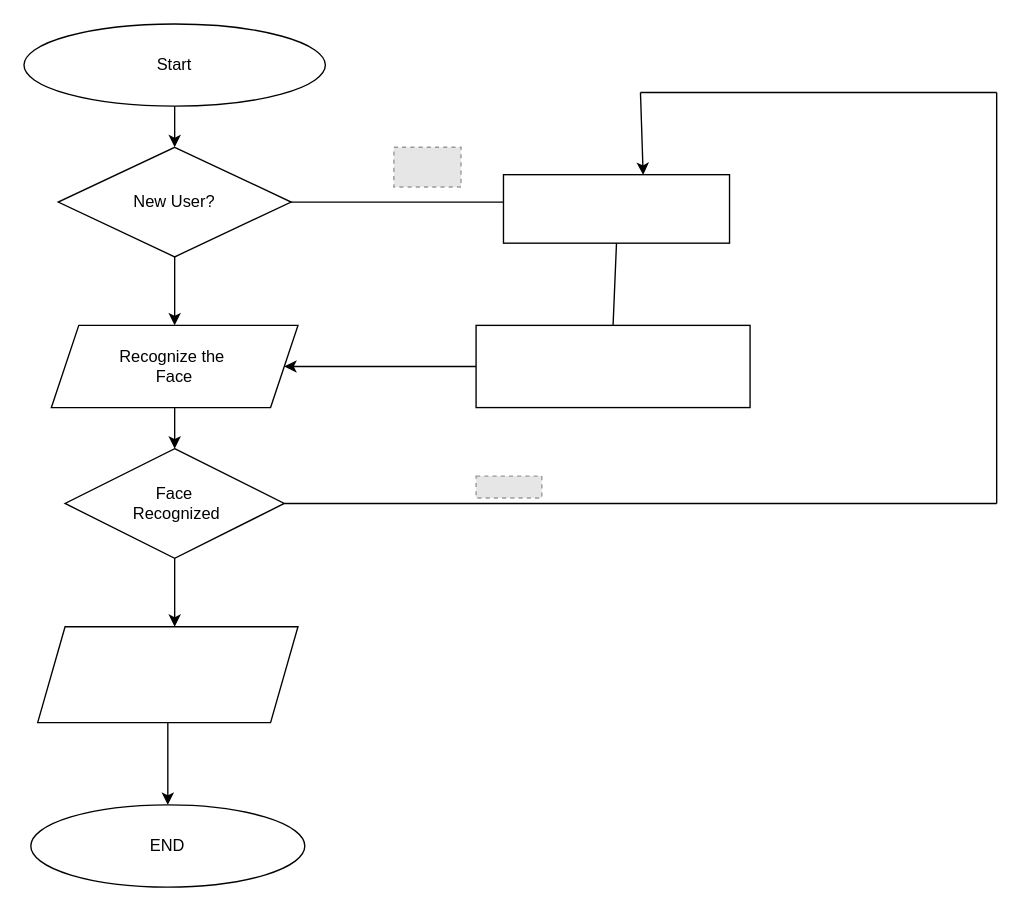
The diagram is 1022 pixels wide and 911 high, and some of its shapes have lost their labels. Grey dashed boxes stand in for pictures. The box of each missing label's shape, as (x1, y1, x2, y2) in pixels:
Give your photograph: (502, 173, 730, 243)
Store in csv file with registration number & date time of entry: (36, 625, 298, 723)
Store the face data in folder on your name: (475, 324, 750, 408)
